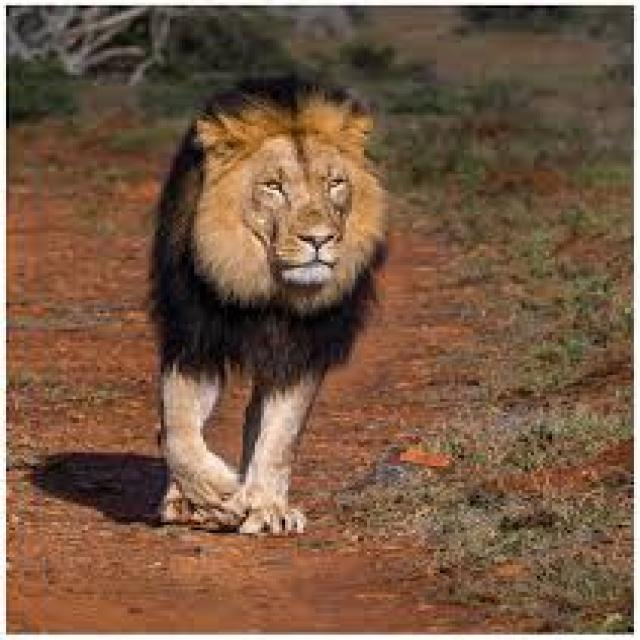Lion: (149, 75, 385, 533)
